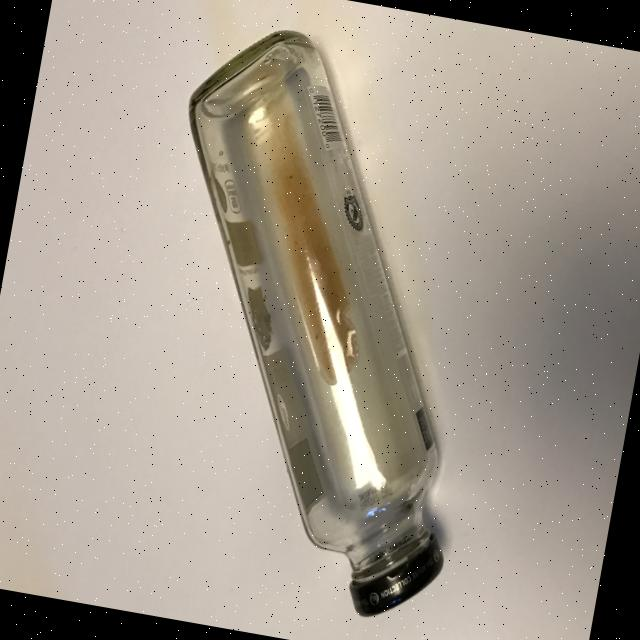glass: (106, 13, 532, 629)
